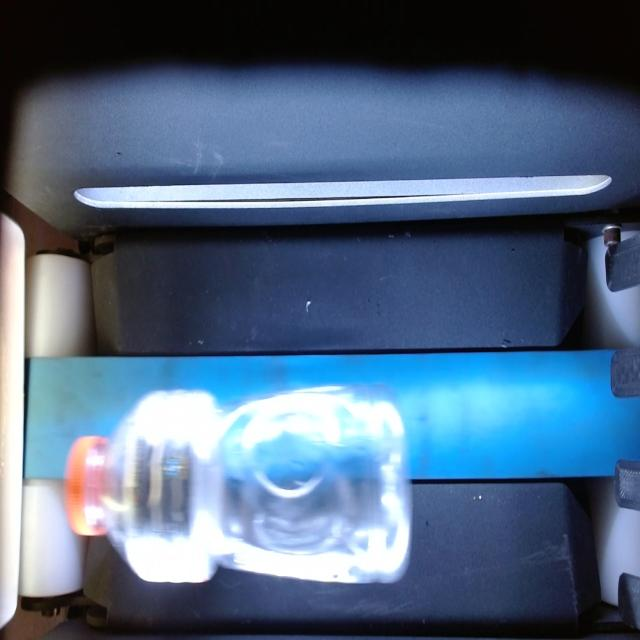bottom: (361, 381, 421, 598)
cap: (56, 429, 118, 547)
